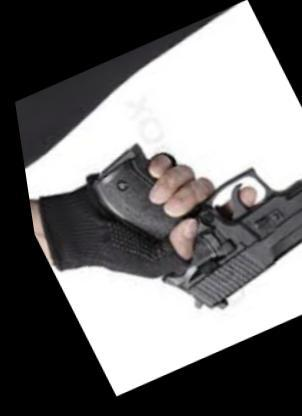pistol: (64, 80, 299, 345)
